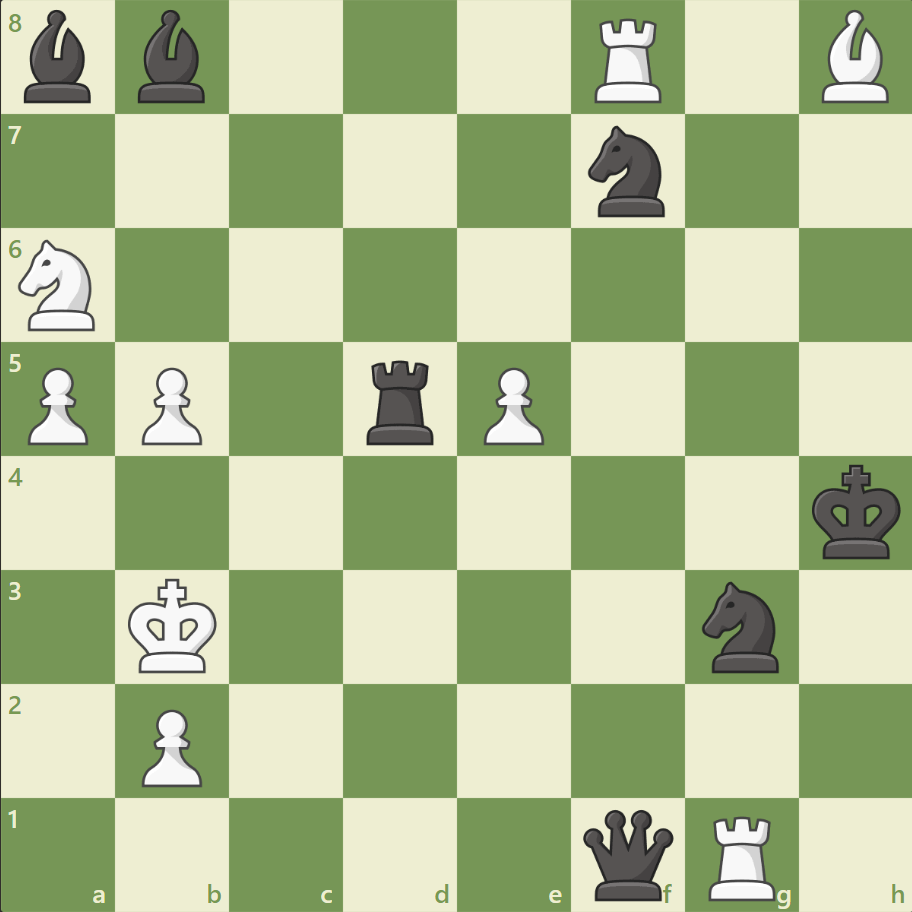B: (812, 6, 896, 109)
K: (124, 571, 224, 679)
N: (11, 234, 108, 337)
P: (20, 359, 95, 450), (133, 359, 208, 450), (474, 359, 549, 450), (133, 700, 208, 791)
R: (700, 806, 783, 904), (587, 12, 670, 109)
b: (17, 6, 101, 109), (131, 6, 215, 109)
k: (806, 458, 906, 566)
n: (579, 121, 676, 223), (692, 575, 789, 677)
q: (578, 804, 677, 903)
r: (360, 352, 442, 449)
